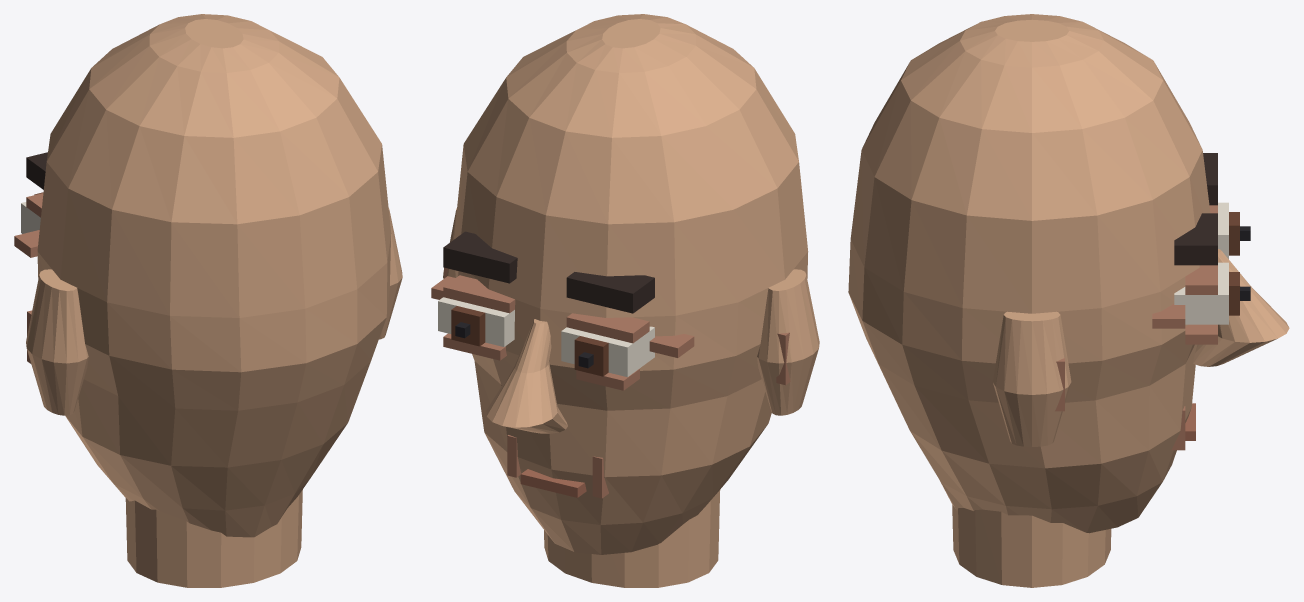
Rendered from CHAR-069.glb.
3 views of the same model, side by side, from view 1: azimuth 30°, elevation 25°; view 2: azimuth 150°, elevation 25°; view 3: azimuth 270°, elevation 25° (orthographic).
Visible parts, largest first — view 1: 精细老年头部母版; view 2: 精细老年头部母版; view 3: 精细老年头部母版.
Boxes of the visible parts, bbox=[...] form: 精细老年头部母版: bbox=[14, 14, 402, 587]; 精细老年头部母版: bbox=[431, 14, 819, 587]; 精细老年头部母版: bbox=[848, 14, 1289, 587].
Bounding box in the file's own units: 0.192 × 0.262 × 0.2017.
Materials: 7 (7 with a texture image).
